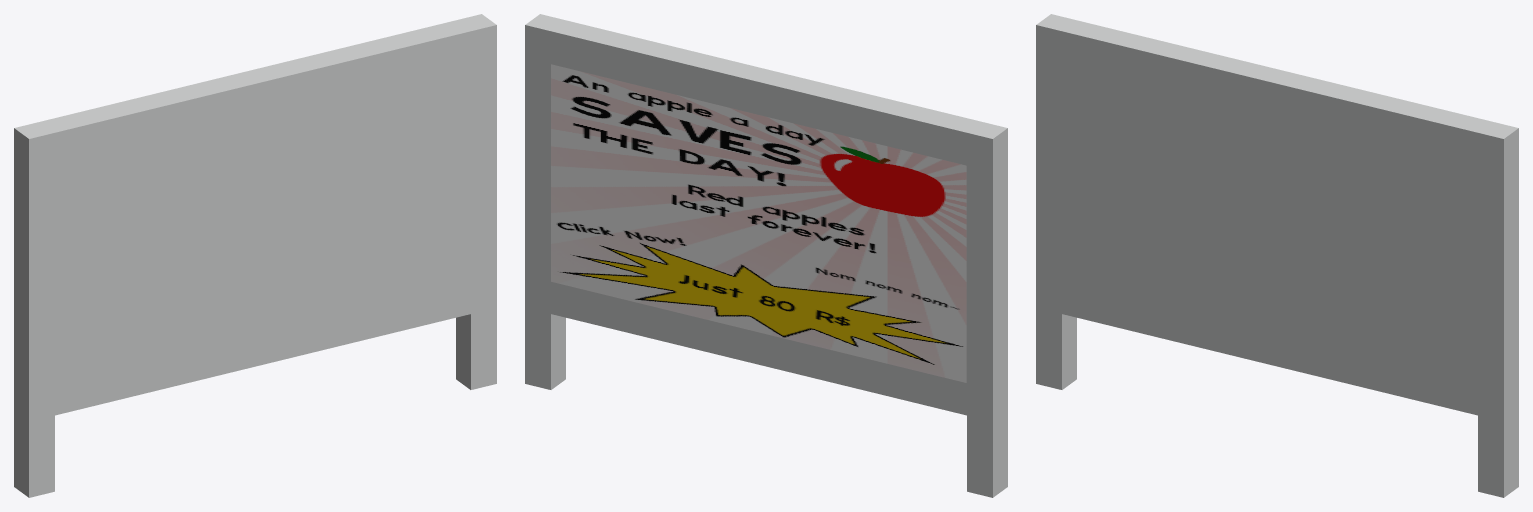
The picture shows the model from 3 angles, left to right: view 1: azimuth 30°, elevation 25°; view 2: azimuth 150°, elevation 25°; view 3: azimuth 330°, elevation 25°; orthographic projection.
Parts seen in each view (by area): view 1: Board1, SmoothBlockModel3, SmoothBlockModel2, SmoothBlockModel1, SmoothBlockModel4; view 2: Board2, SmoothBlockModel3, SmoothBlockModel2, SmoothBlockModel1, SmoothBlockModel4, Board1; view 3: Board1, SmoothBlockModel3, SmoothBlockModel2, SmoothBlockModel4, SmoothBlockModel1.
Part boxes in pixels (bbox=[...]): Board1: bbox=[55, 64, 470, 382]; SmoothBlockModel3: bbox=[14, 14, 496, 171]; SmoothBlockModel2: bbox=[55, 281, 470, 415]; SmoothBlockModel1: bbox=[14, 161, 54, 497]; SmoothBlockModel4: bbox=[456, 57, 496, 389]; Board2: bbox=[551, 64, 966, 382]; SmoothBlockModel3: bbox=[525, 14, 1007, 171]; SmoothBlockModel2: bbox=[551, 282, 966, 415]; SmoothBlockModel1: bbox=[967, 161, 1007, 497]; SmoothBlockModel4: bbox=[525, 57, 565, 389]; Board1: bbox=[551, 64, 966, 382]; Board1: bbox=[1062, 64, 1477, 382]; SmoothBlockModel3: bbox=[1036, 14, 1518, 171]; SmoothBlockModel2: bbox=[1062, 281, 1477, 415]; SmoothBlockModel4: bbox=[1478, 161, 1518, 497]; SmoothBlockModel1: bbox=[1036, 57, 1076, 389].
Bounding box in the file's own units: 18 × 13.2 × 1.02.
2 materials, 1 textured.
